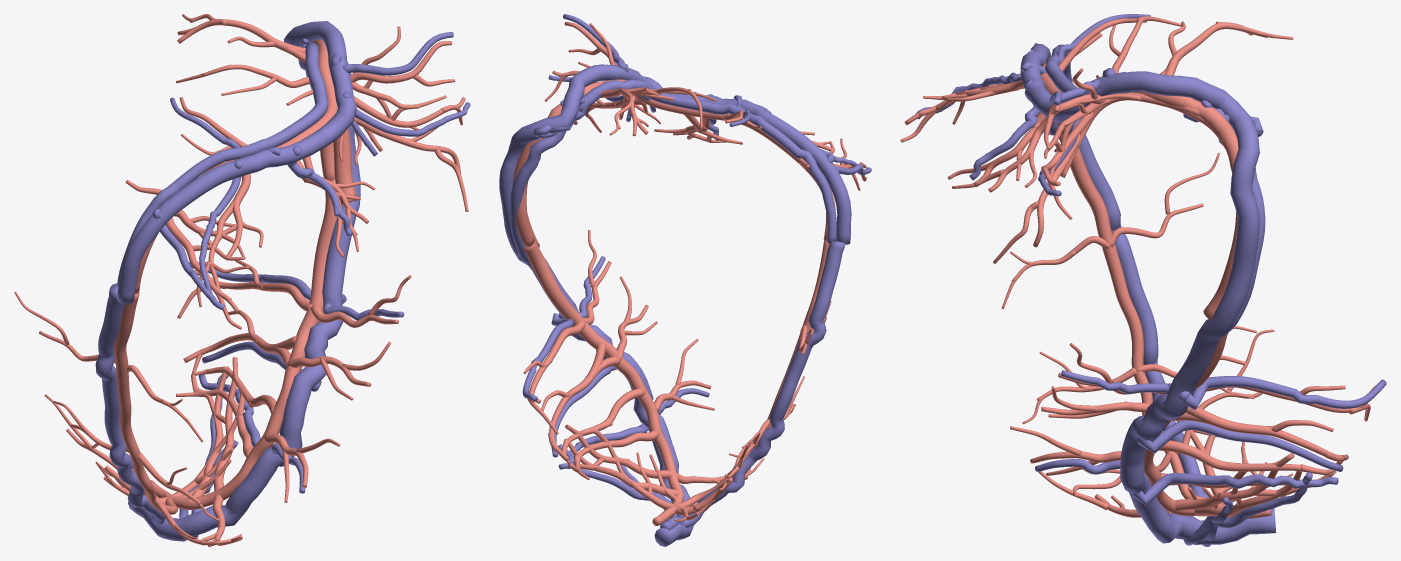
File: vessels_18.glb
3 renders of one model, left to right at view 1: azimuth 30°, elevation 25°; view 2: azimuth 150°, elevation 25°; view 3: azimuth 270°, elevation 25°, orthographic. The views are drawn at different scales.
Parts seen in each view (by area): view 1: Renderer Node; view 2: Renderer Node; view 3: Renderer Node.
Part boxes in pixels (x1,y1,x2,y2): Renderer Node: [14, 14, 470, 546]; Renderer Node: [499, 14, 871, 546]; Renderer Node: [900, 14, 1386, 546].
Size of the model in its own units: 94.23 by 121 by 94.63.
